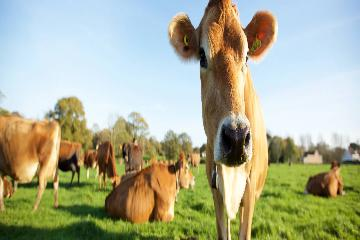cow: (180, 1, 282, 208), (115, 153, 196, 223), (2, 108, 60, 202)
